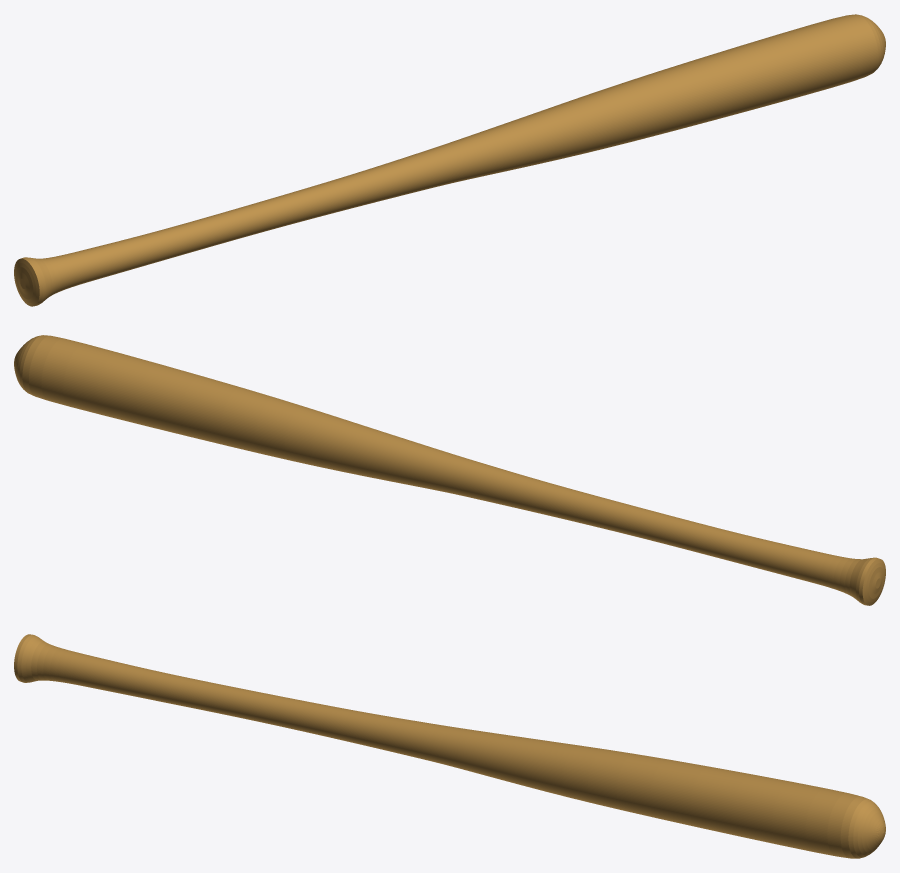
Rendered from Baseball+bat.fbx.
The picture shows the model from 3 angles, top to bottom: view 1: azimuth 30°, elevation 25°; view 2: azimuth 150°, elevation 25°; view 3: azimuth 330°, elevation 25°; orthographic projection. The views are drawn at different scales.
Visible parts, largest first — view 1: Cylinder; view 2: Cylinder; view 3: Cylinder.
Boxes of the visible parts, x1=… form: Cylinder: x1=14, y1=14, x2=885, y2=306; Cylinder: x1=14, y1=335, x2=885, y2=605; Cylinder: x1=14, y1=634, x2=885, y2=858.
Bounding box in the file's own units: 883 × 73.48 × 68.8.
